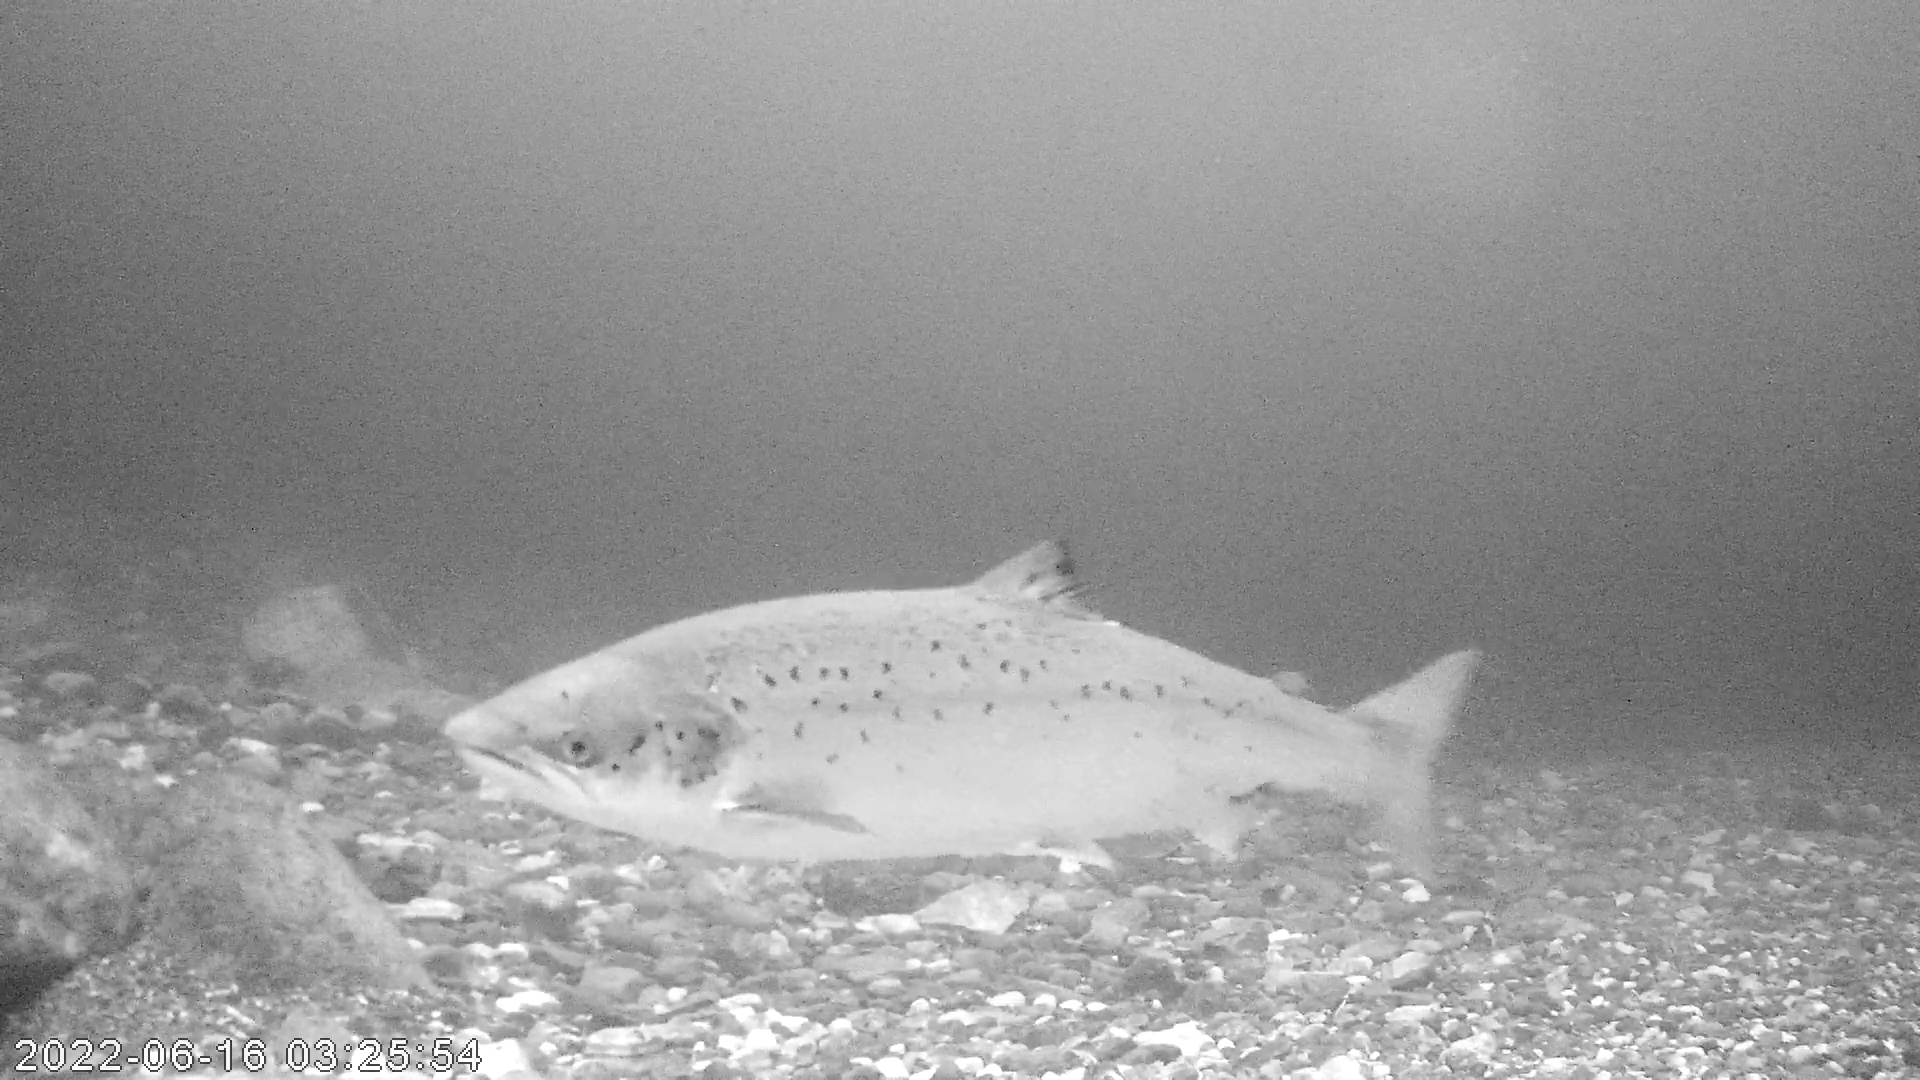salmon: (442, 533, 1481, 889)
